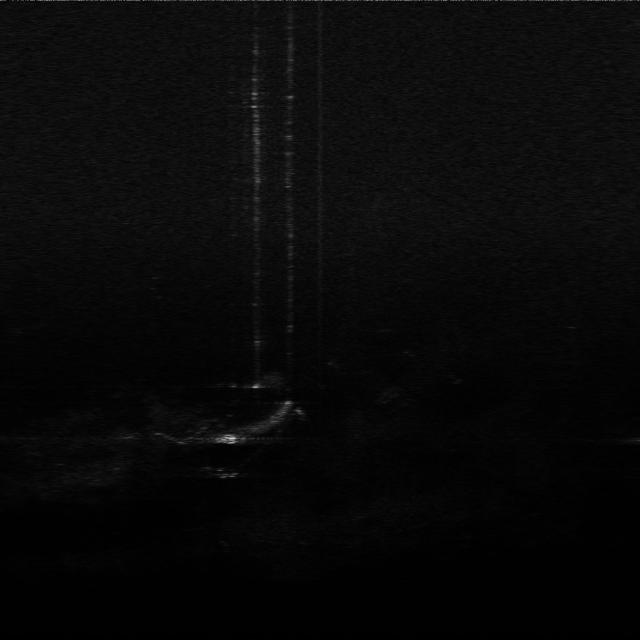rov: (212, 428, 243, 448)
